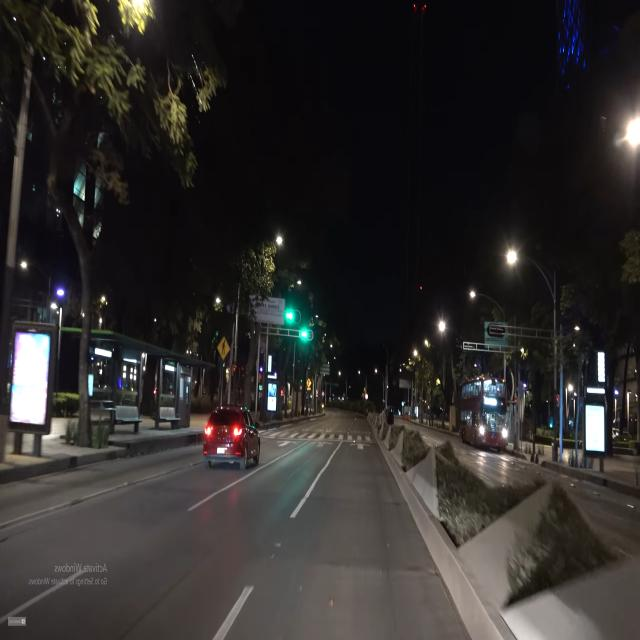headlights: (474, 421, 513, 447)
